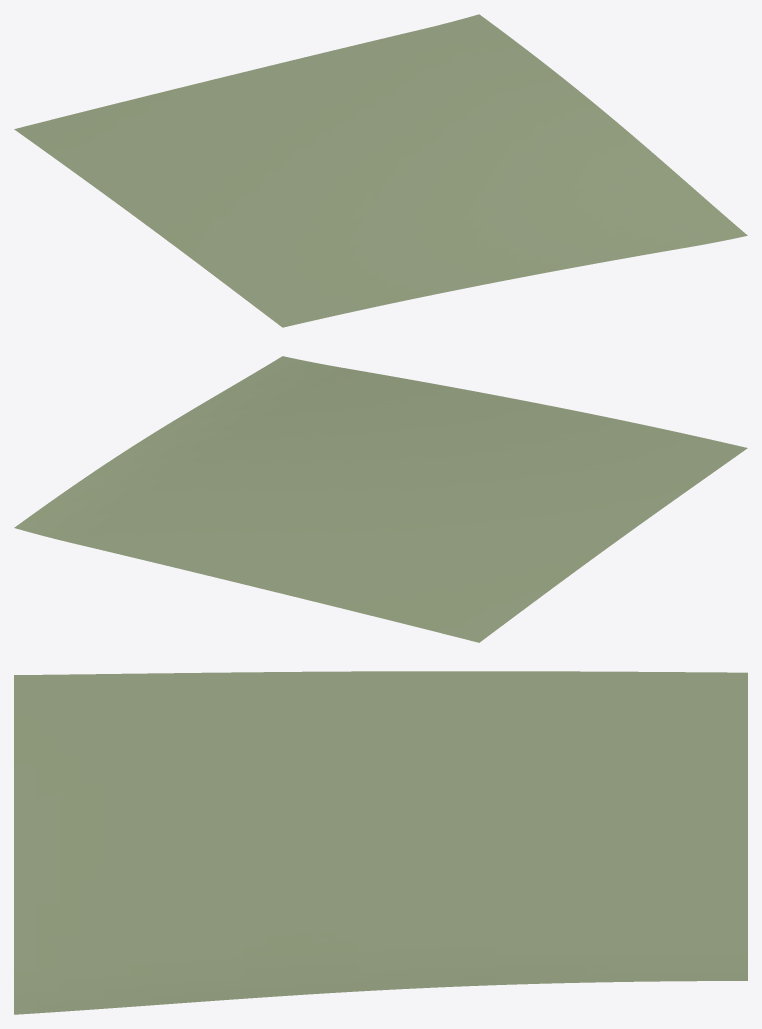
The model's file is desert-21-4.glb.
3 views of the same model, one above another, from view 1: azimuth 30°, elevation 25°; view 2: azimuth 150°, elevation 25°; view 3: azimuth 270°, elevation 25° (orthographic). The views are drawn at different scales.
Visible parts, largest first — view 1: desert-21-4; view 2: desert-21-4; view 3: desert-21-4.
Part boxes in pixels (x1,y1,x2,y2): desert-21-4: (14, 14, 747, 327); desert-21-4: (14, 356, 747, 642); desert-21-4: (14, 671, 747, 1014).
Bounding box in the file's own units: 512 × 26.2 × 512.
